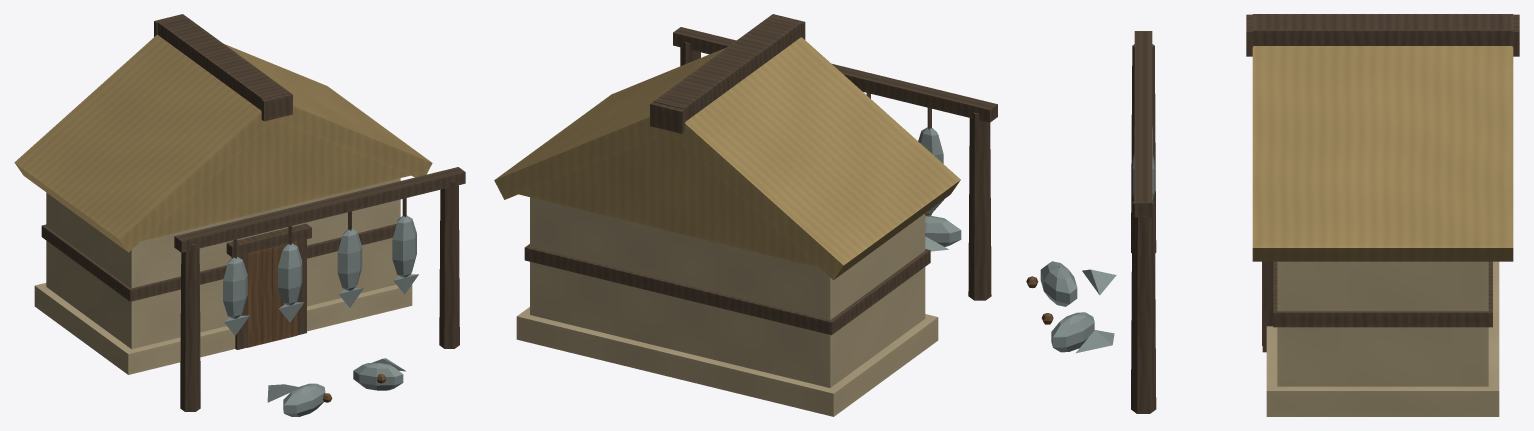
The model's file is drying-rack-long-hut.glb.
3 renders of one model, left to right at view 1: azimuth 30°, elevation 25°; view 2: azimuth 150°, elevation 25°; view 3: azimuth 270°, elevation 25°, orthographic. The views are drawn at different scales.
Parts seen in each view (by area): view 1: drying-rack-long-hut; view 2: drying-rack-long-hut; view 3: drying-rack-long-hut.
Part boxes in pixels (left/top/right/bottom): drying-rack-long-hut: left=14, top=14, right=465, bottom=416; drying-rack-long-hut: left=494, top=14, right=997, bottom=416; drying-rack-long-hut: left=1026, top=14, right=1519, bottom=416.
Size of the model in its own units: 0.6285 by 0.4775 by 0.6915.
1 material, 1 textured.
